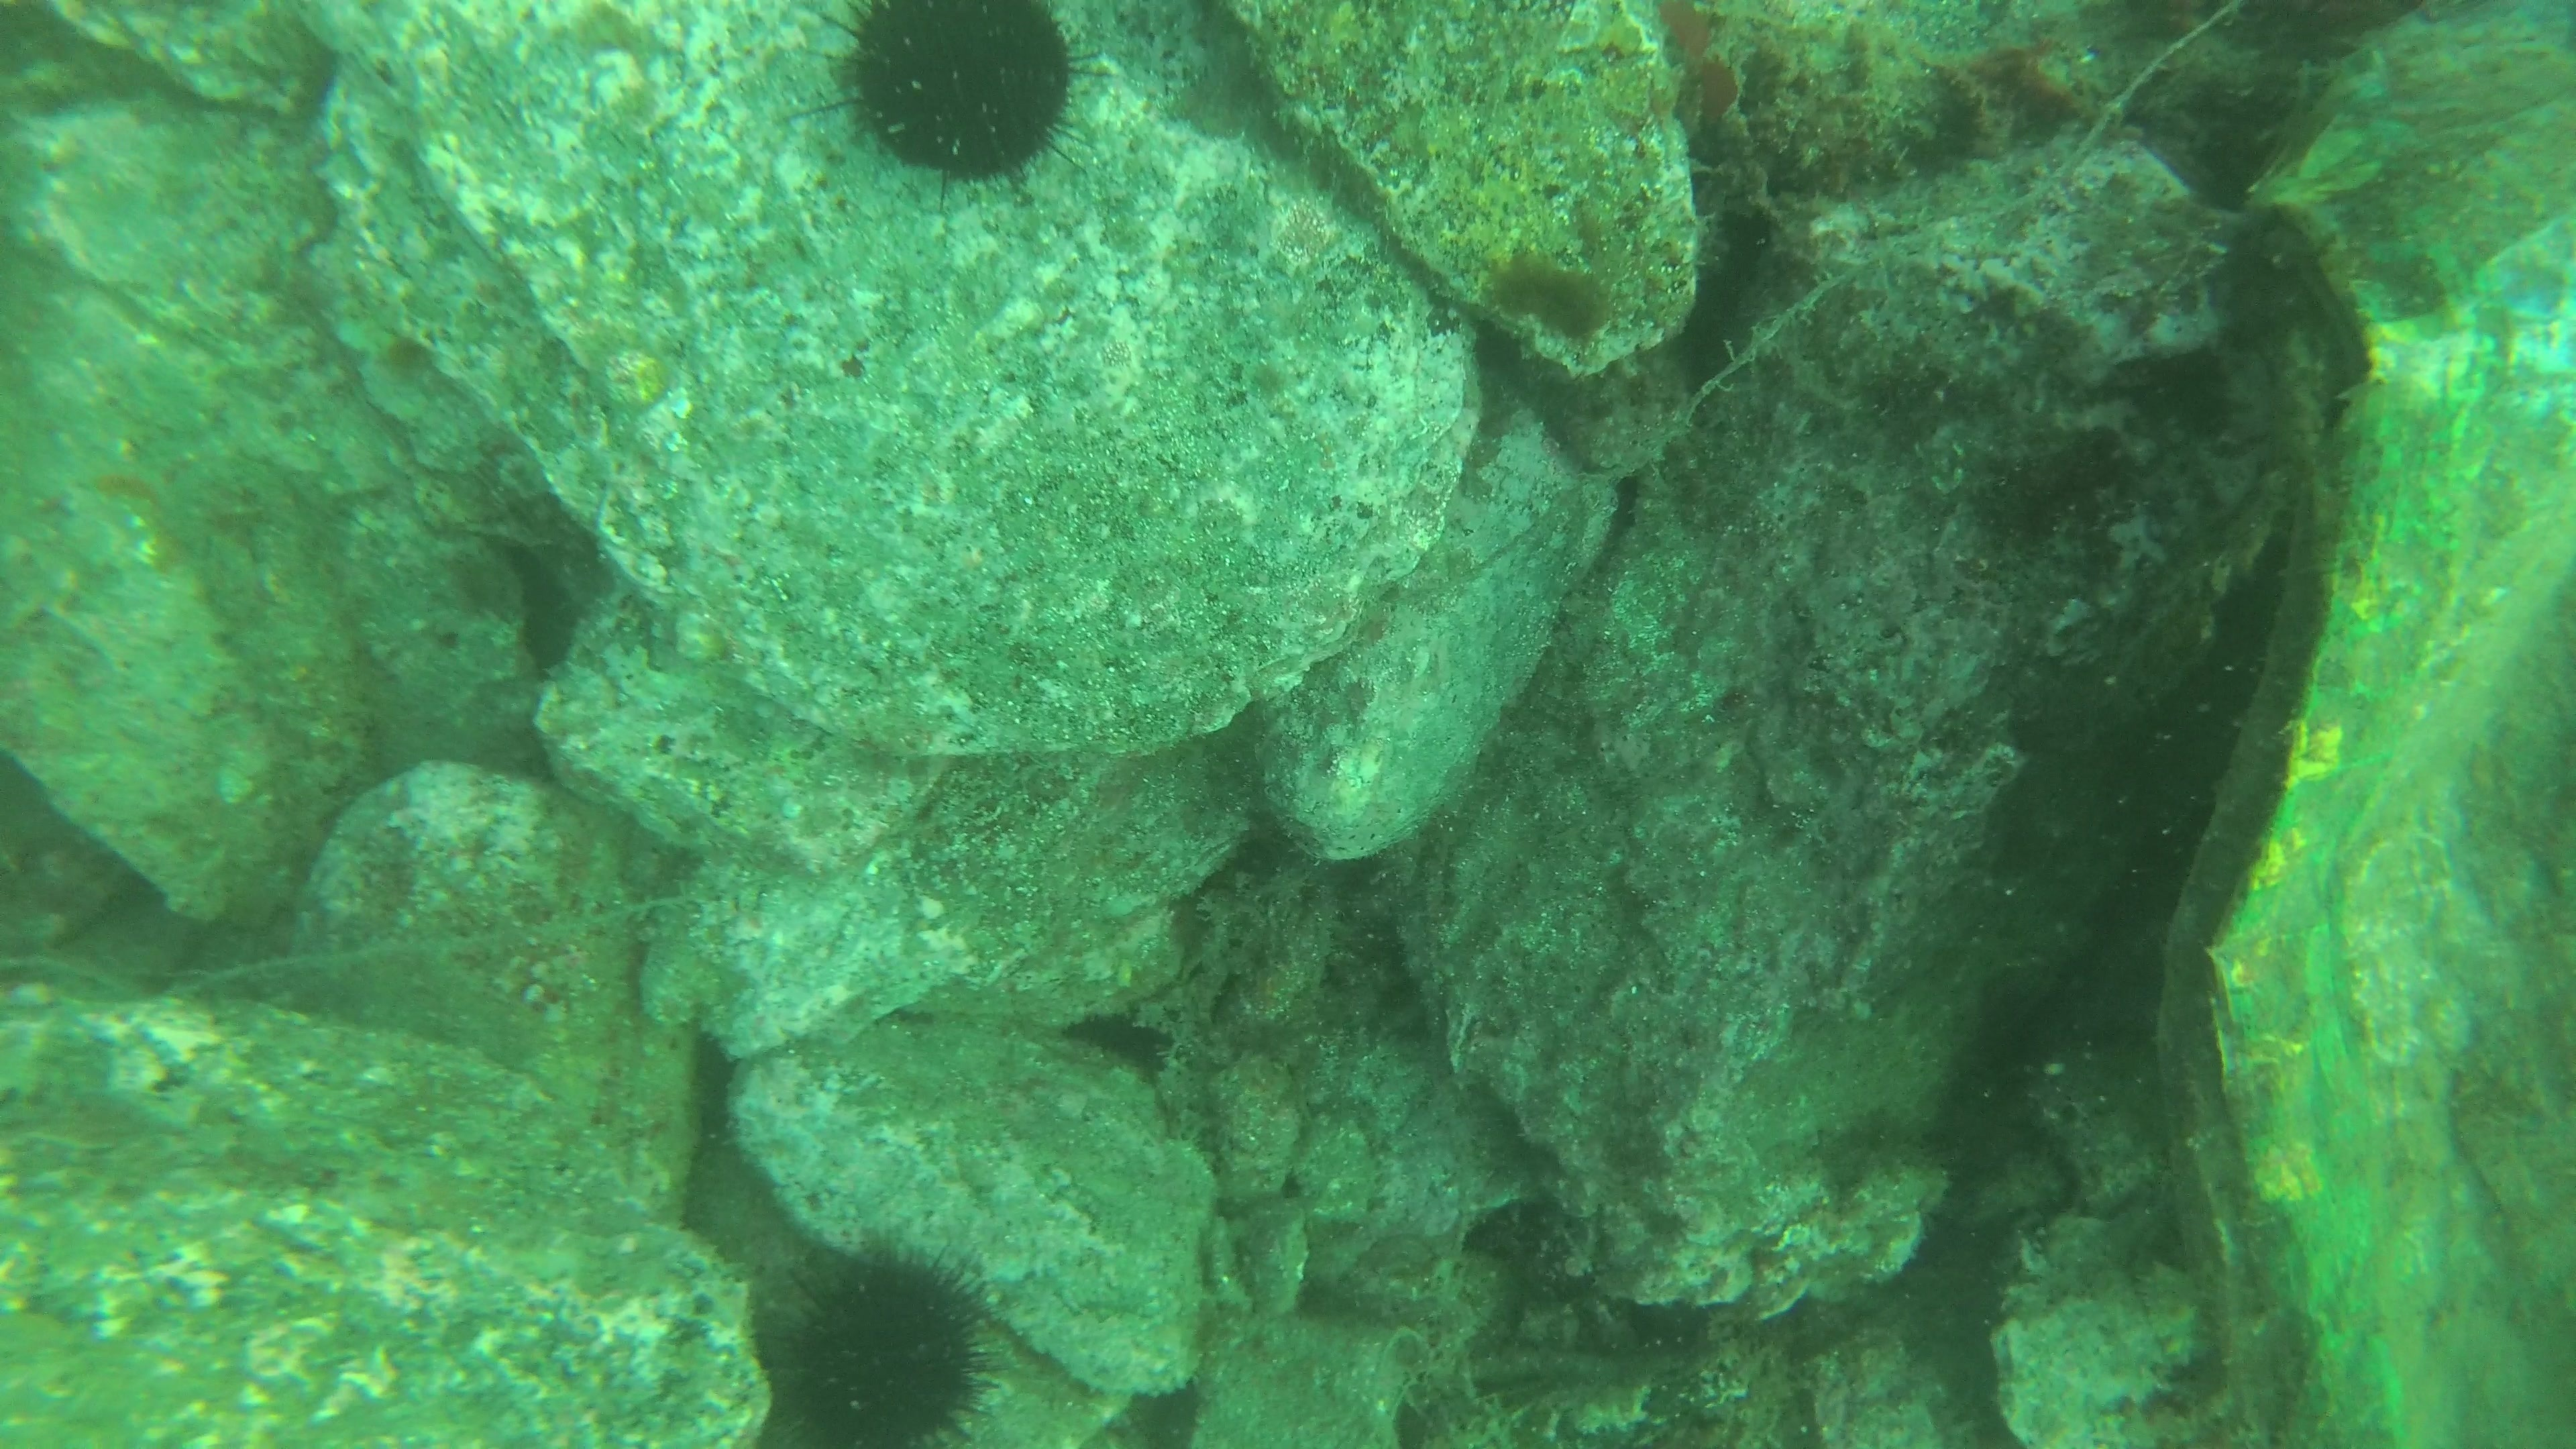echinus: (823, 4, 1093, 195), (764, 1235, 1007, 1444)
